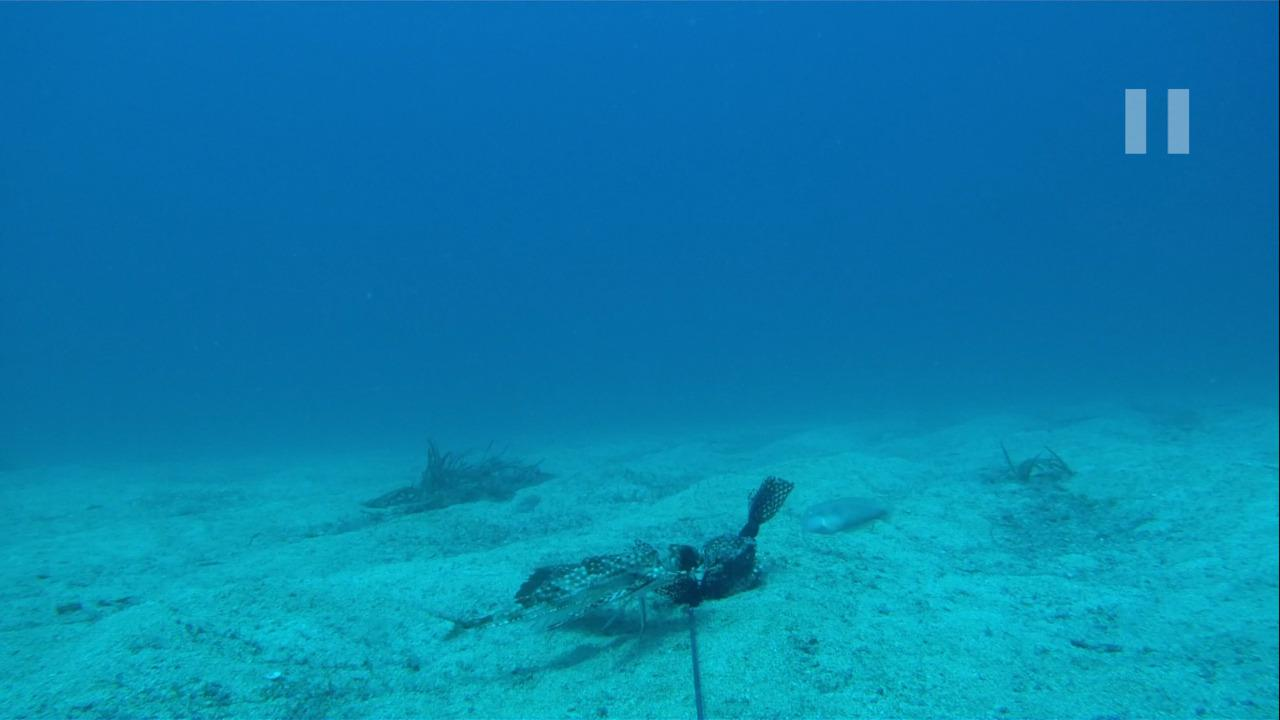dactylopterus: (418, 539, 706, 643)
raor: (796, 490, 887, 536)
